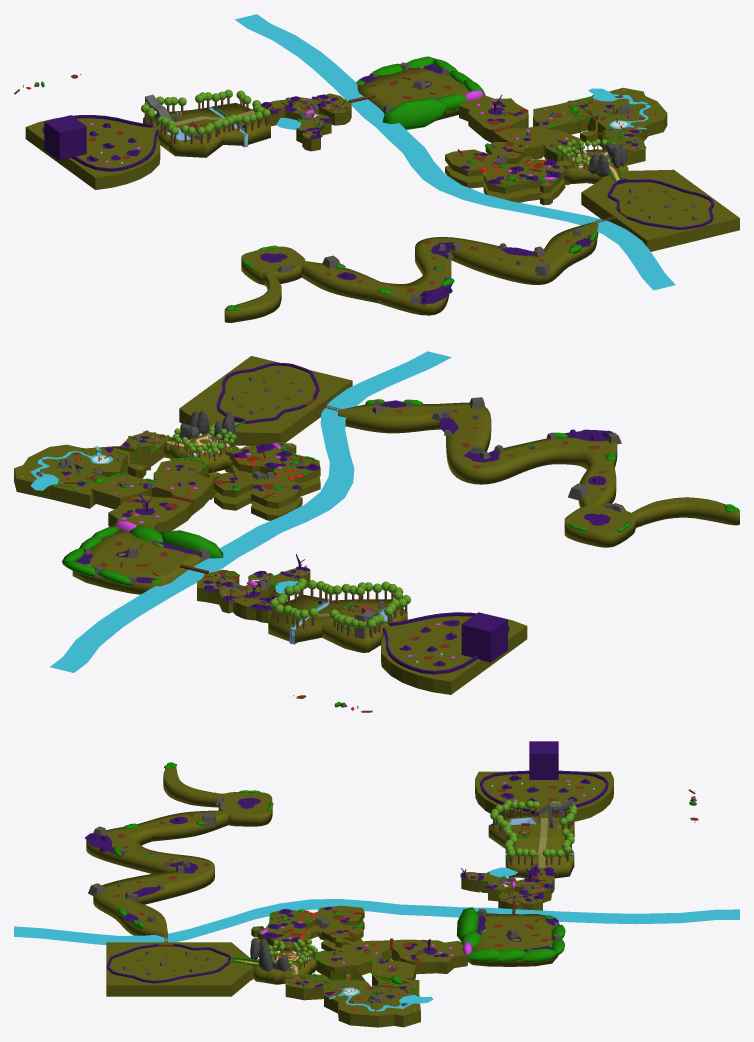
The model's file is zona de prueba2.fbx.
3 views of the same model, one above another, from view 1: azimuth 30°, elevation 25°; view 2: azimuth 150°, elevation 25°; view 3: azimuth 270°, elevation 25° (orthographic). The views are drawn at different scales.
Parts seen in each view (by area): view 1: Plane.099, Plane.115, Plane.087, Plane.084, Plane.044, Plane.011, Plane.105, Plane.021, Circle, Plane.013, Plane.004, Plane.040 (+9 smaller); view 2: Plane.115, Plane.099, Plane.087, Plane.084, Plane.011, Plane.105, Plane.044, Circle, Plane.031, Plane.004, Plane.040, Plane.021 (+10 smaller); view 3: Plane.099, Plane.087, Plane.115, Plane.084, Plane.044, Plane.105, Plane.011, Plane.004, Circle, Plane.018, Plane.013, Plane.040 (+10 smaller).
Boxes of the visible parts, x1,y1,x2,y2 form: Plane.099: [299, 221, 598, 315]; Plane.115: [235, 14, 675, 290]; Plane.087: [581, 169, 739, 251]; Plane.084: [25, 118, 160, 189]; Plane.044: [143, 103, 270, 157]; Plane.011: [445, 126, 566, 188]; Plane.105: [357, 67, 469, 120]; Plane.021: [483, 159, 571, 205]; Circle: [42, 115, 158, 171]; Plane.013: [459, 95, 528, 142]; Plane.004: [587, 113, 648, 165]; Plane.040: [241, 246, 305, 284]; Plane.115: [50, 351, 451, 672]; Plane.099: [338, 402, 617, 507]; Plane.087: [179, 356, 352, 445]; Plane.084: [381, 614, 527, 694]; Plane.011: [151, 471, 302, 520]; Plane.105: [72, 529, 204, 594]; Plane.044: [268, 594, 407, 652]; Circle: [382, 612, 509, 674]; Plane.031: [627, 497, 739, 528]; Plane.004: [71, 431, 172, 477]; Plane.040: [564, 505, 635, 547]; Plane.021: [224, 443, 320, 496]; Plane.099: [86, 810, 228, 937]; Plane.087: [106, 942, 253, 996]; Plane.115: [14, 899, 739, 945]; Plane.084: [475, 771, 613, 821]; Plane.044: [488, 815, 574, 878]; Plane.105: [468, 913, 558, 966]; Plane.011: [316, 905, 391, 975]; Plane.004: [285, 968, 374, 1013]; Circle: [480, 741, 608, 815]; Plane.018: [338, 1000, 420, 1027]; Plane.013: [392, 939, 467, 974]; Plane.040: [218, 792, 272, 826].
Bounding box in the file's own units: 54900 × 4817 × 67167.
